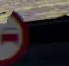No overtake: (0, 4, 30, 62)
